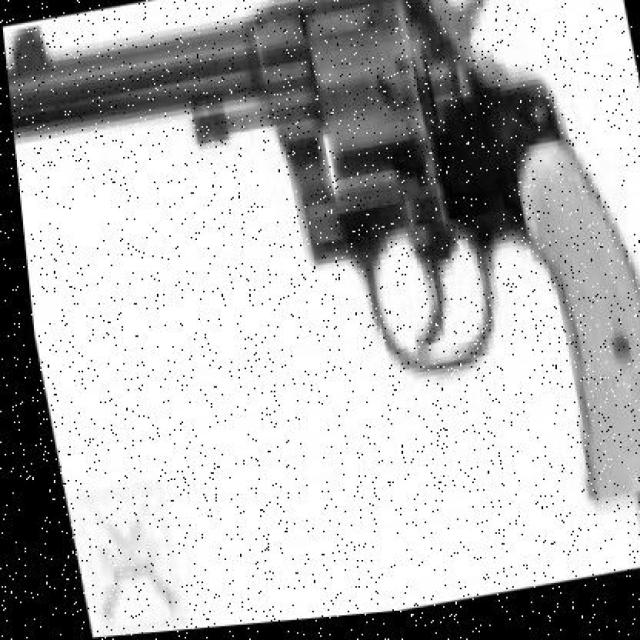weapon: (3, 1, 639, 506)
